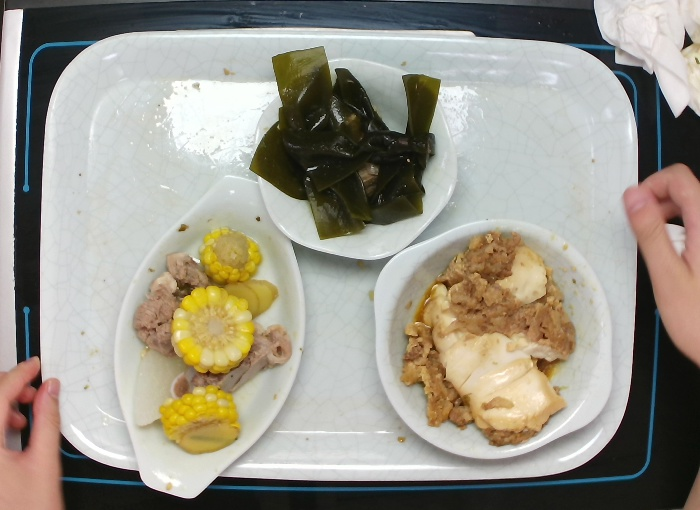JYsf-Shuang_Er_Wan: (367, 217, 621, 464)
JYsf-Yu_Pan: (111, 168, 310, 504)
WCQzf-Hua_Duo_Wan: (249, 54, 464, 263)
